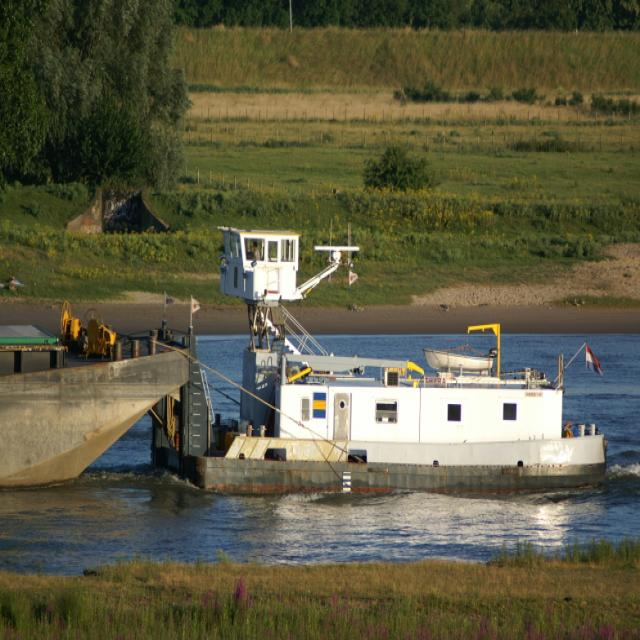tugboat: (148, 221, 614, 507)
